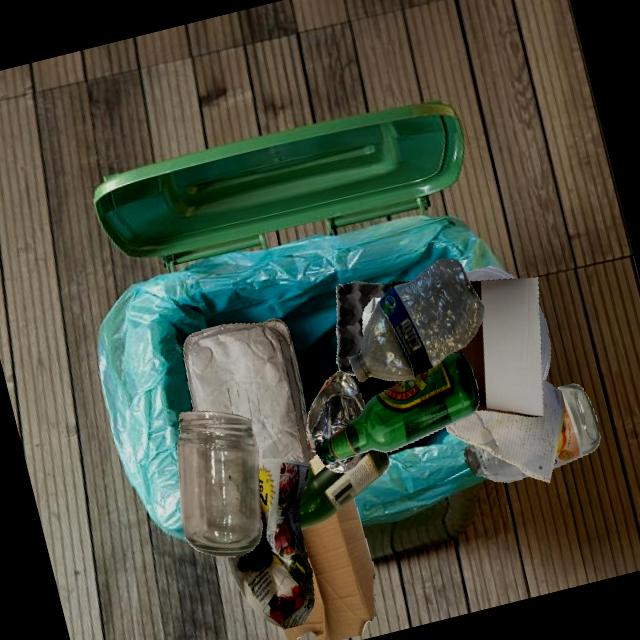cardboard: (283, 497, 376, 640), (458, 277, 543, 416), (392, 281, 466, 384), (336, 280, 392, 375), (362, 281, 408, 376)
glass: (315, 352, 479, 465), (176, 410, 262, 556), (299, 449, 389, 530), (552, 383, 600, 468), (464, 443, 530, 482)
metal: (182, 317, 316, 463), (306, 370, 365, 451)
paper: (226, 458, 314, 629), (445, 378, 564, 482), (362, 297, 381, 336)
plastic: (349, 258, 484, 381), (538, 305, 550, 380), (465, 265, 516, 281)
